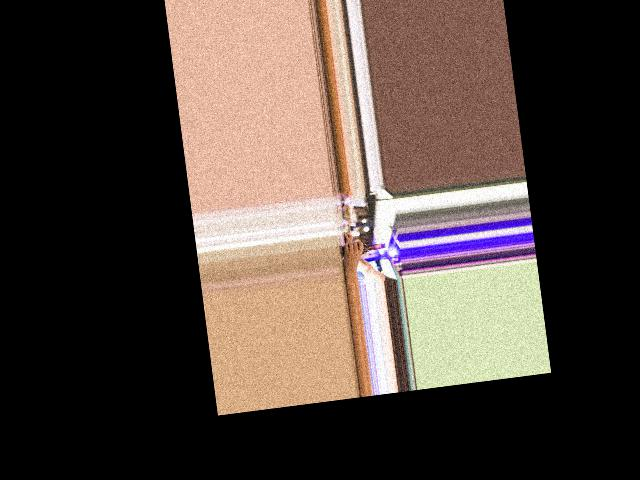beer: (341, 240, 386, 256)
